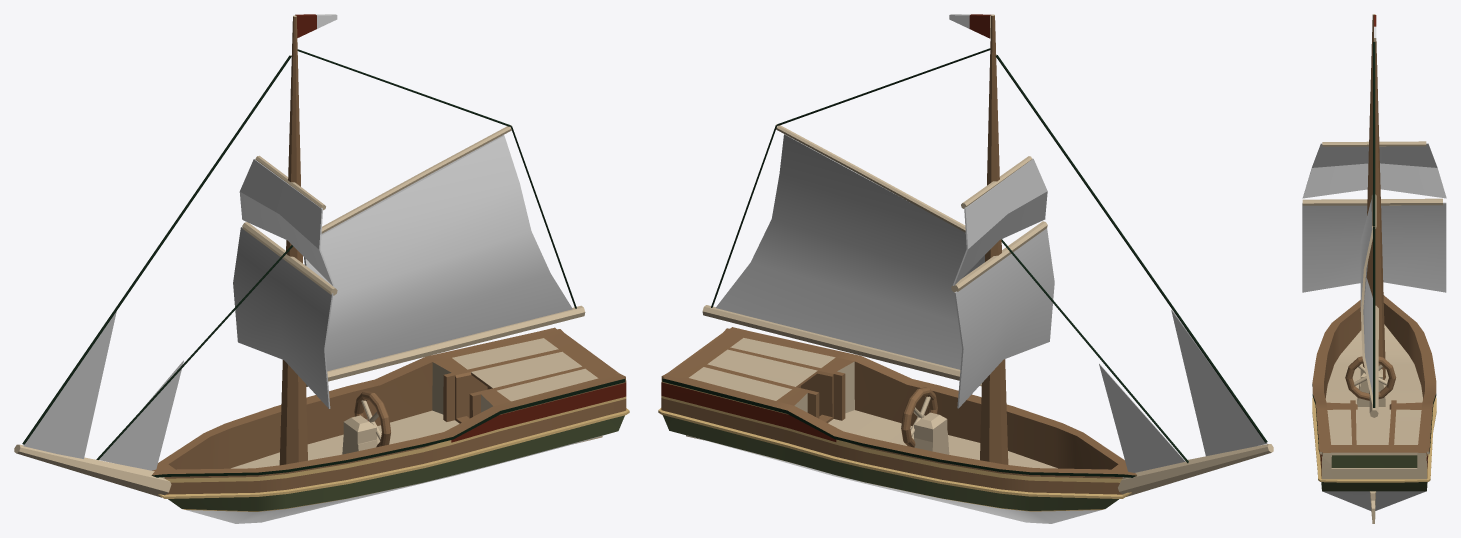
The model's file is Sloop Boat.fbx.
3 renders of one model, left to right at view 1: azimuth 30°, elevation 25°; view 2: azimuth 150°, elevation 25°; view 3: azimuth 270°, elevation 25°, orthographic. The views are drawn at different scales.
Visible parts, largest first — view 1: polySurface25; view 2: polySurface25; view 3: polySurface25.
Part boxes in pixels (x1=…): polySurface25: x1=14, y1=14, x2=629, y2=523; polySurface25: x1=658, y1=14, x2=1273, y2=523; polySurface25: x1=1302, y1=14, x2=1446, y2=523.
Bounding box in the file's own units: 1572 × 1269 × 424.
1 material, 1 textured.
